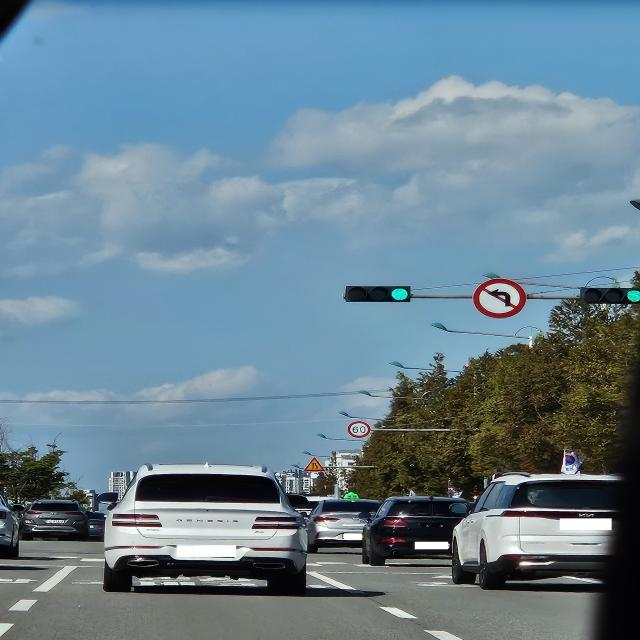Green Light: (390, 286, 410, 302), (624, 288, 640, 303)
